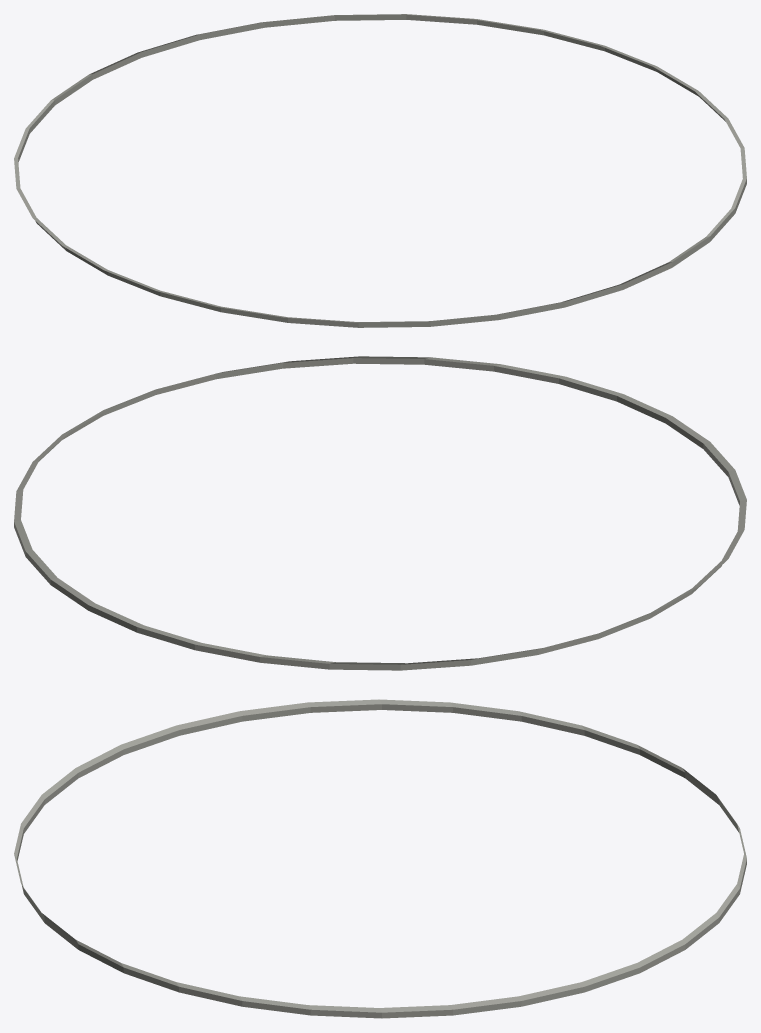
File: Adv-wall.fbx
3 views of the same model, one above another, from view 1: azimuth 30°, elevation 25°; view 2: azimuth 150°, elevation 25°; view 3: azimuth 270°, elevation 25° (orthographic).
Visible parts, largest first — view 1: Circle.019; view 2: Circle.019; view 3: Circle.019.
Part boxes in pixels (left/top/right/bottom): Circle.019: left=14, top=14, right=746, bottom=327; Circle.019: left=14, top=356, right=746, bottom=670; Circle.019: left=14, top=699, right=746, bottom=1018.
Bounding box in the file's own units: 18844 × 219 × 18754.
Materials: 1 (1 with a texture image).
